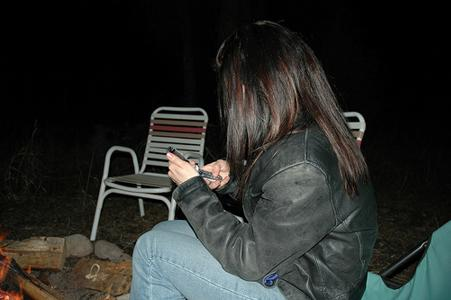person: (129, 22, 378, 300)
